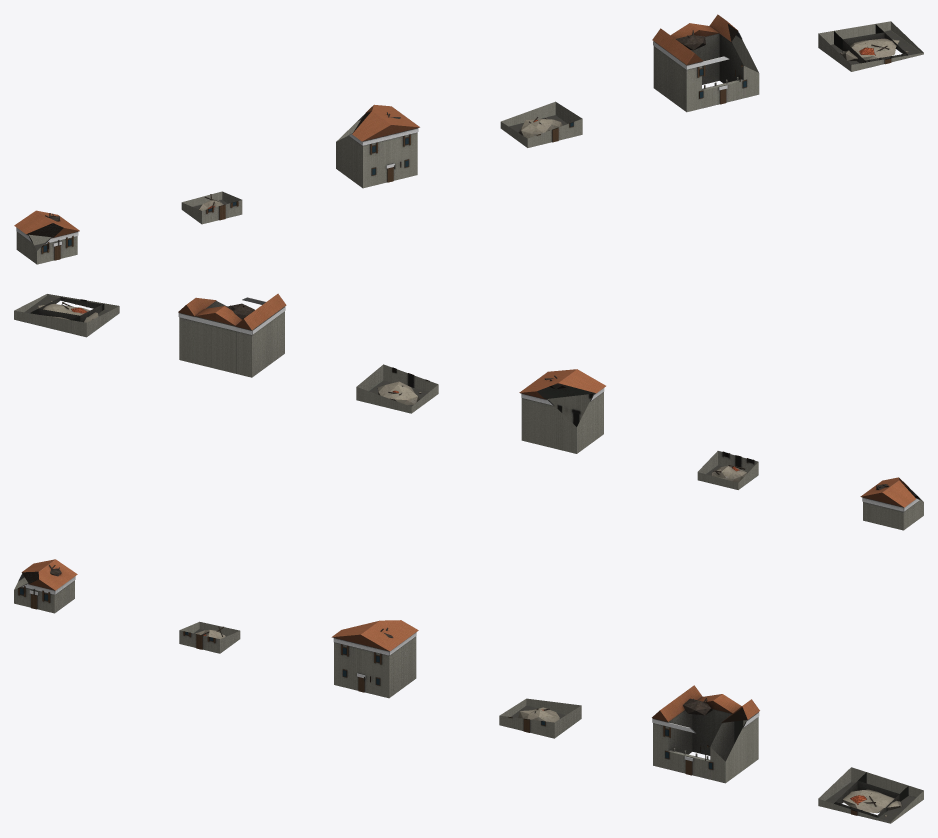
The model's file is gunpowder-americas-houses-damage.glb.
The picture shows the model from 3 angles, top to bottom: view 1: azimuth 30°, elevation 25°; view 2: azimuth 150°, elevation 25°; view 3: azimuth 330°, elevation 25°; orthographic projection.
Visible parts, largest first — view 1: LOD0.004, LOD0.002, LOD0.005, LOD0, LOD0.003, LOD0.001; view 2: LOD0.004, LOD0.002, LOD0.005, LOD0.003, LOD0, LOD0.001; view 3: LOD0.004, LOD0.002, LOD0.005, LOD0, LOD0.003, LOD0.001.
Boxes of the visible parts, x1,y1,x2,y2 form: LOD0.004: (652, 14, 759, 112); LOD0.002: (336, 104, 419, 188); LOD0.005: (818, 21, 923, 71); LOD0: (14, 210, 79, 264); LOD0.003: (500, 101, 582, 147); LOD0.001: (181, 191, 242, 224); LOD0.004: (178, 293, 286, 377); LOD0.002: (519, 369, 605, 453); LOD0.005: (14, 294, 119, 337); LOD0.003: (356, 364, 438, 413); LOD0: (860, 477, 923, 530); LOD0.001: (697, 451, 758, 489); LOD0.004: (652, 685, 759, 783); LOD0.002: (331, 620, 418, 698); LOD0.005: (818, 767, 923, 823); LOD0: (14, 559, 77, 613); LOD0.003: (499, 698, 581, 738); LOD0.001: (179, 621, 240, 653).
Size of what is drawn, in the model's own units: 16.06 by 1.01 by 1.08.
Materials: 2 (2 with a texture image).
